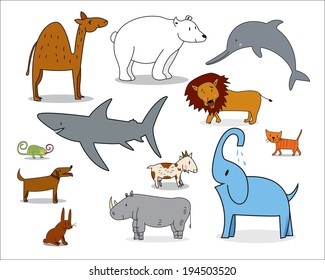animal: (25, 7, 110, 101), (204, 15, 311, 89), (111, 7, 209, 84), (34, 106, 167, 158), (103, 188, 201, 242), (185, 73, 274, 125), (35, 206, 84, 252), (145, 153, 198, 192), (12, 132, 58, 163)
cat: (259, 125, 310, 158)
dog: (11, 162, 79, 208)
elephant: (203, 127, 305, 241)
